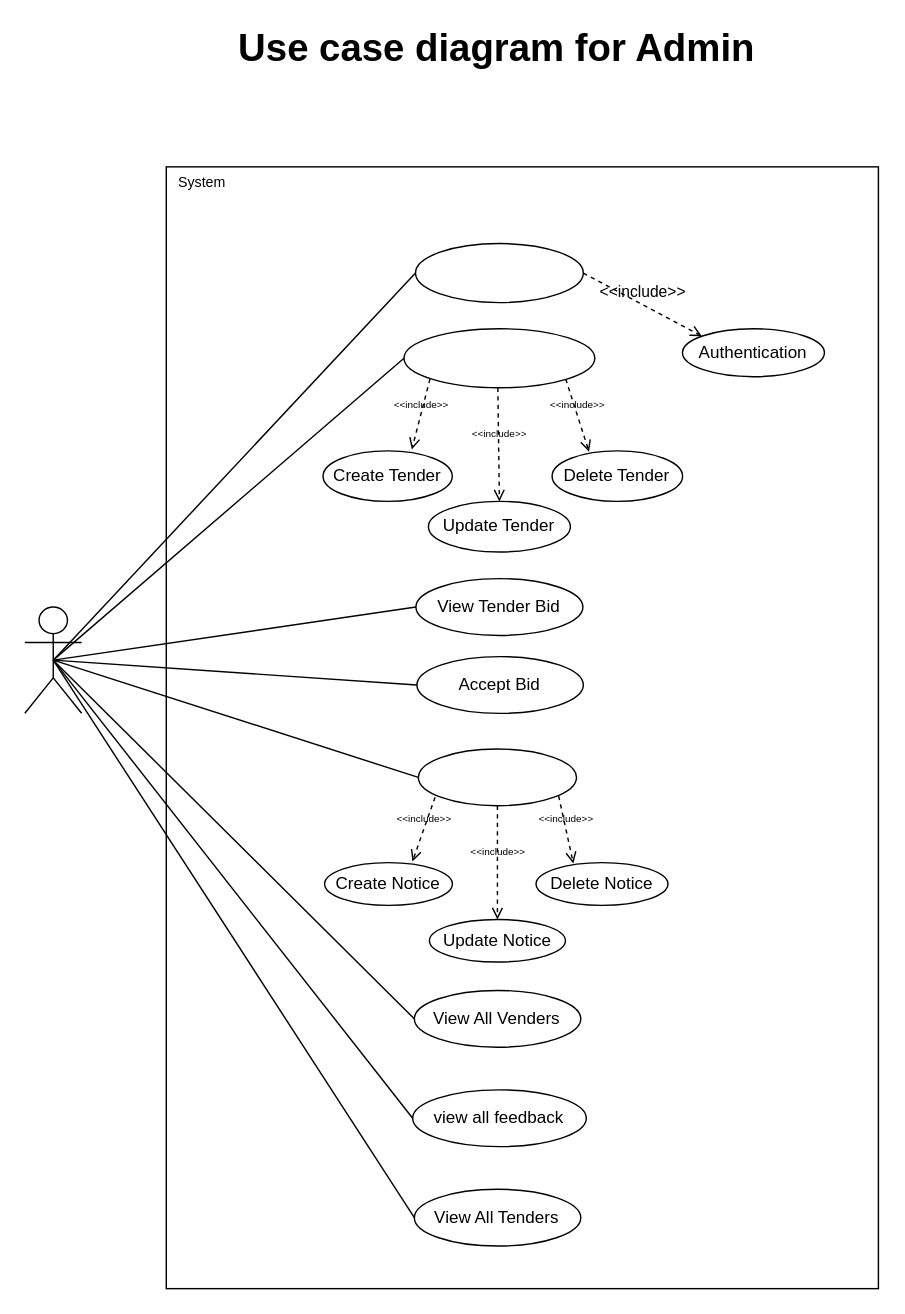
This 905x1314 diagram has some shape labels left out. The shapes that lost their labels are listed below. From the top down, each one's box as (x1, y1, x2, y2) in pixels, then its label:
(414, 242, 583, 303): login
(403, 327, 595, 388): Manage Tender
(23, 606, 82, 713): Admin
(417, 748, 577, 806): Manage Notice
